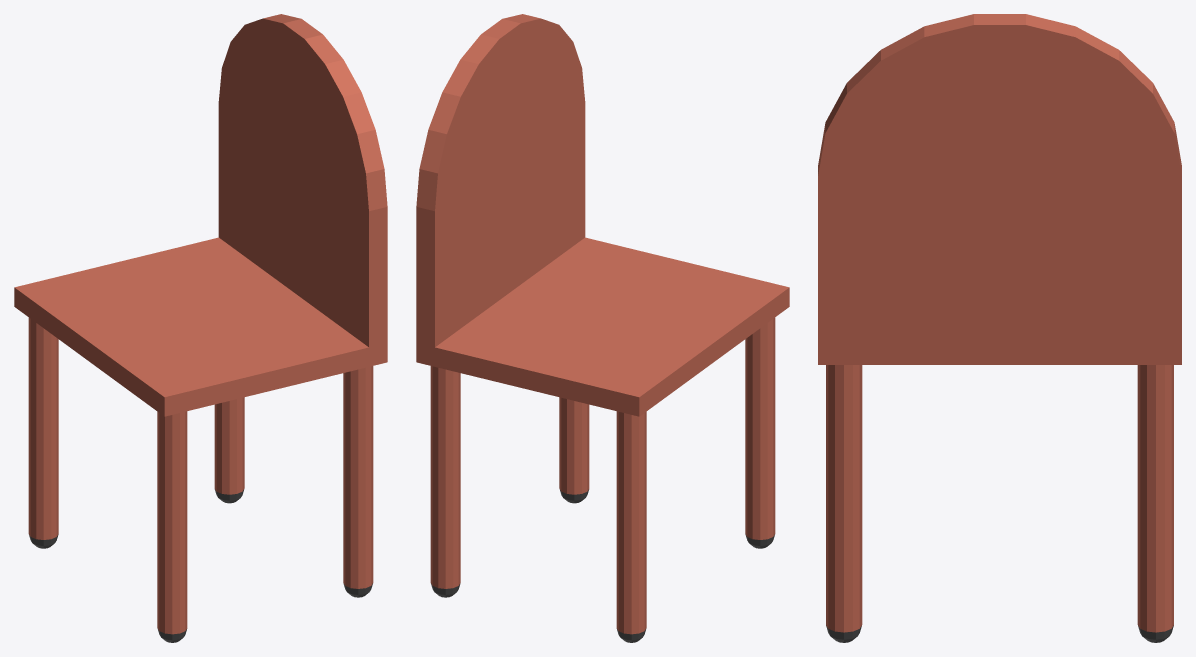
Rendered from Chair.fbx.
The picture shows the model from 3 angles, left to right: view 1: azimuth 30°, elevation 25°; view 2: azimuth 150°, elevation 25°; view 3: azimuth 270°, elevation 25°; orthographic projection. The views are drawn at different scales.
Visible parts, largest first — view 1: Cylinder; view 2: Cylinder; view 3: Cylinder.
Part boxes in pixels (<box>): Cylinder: <box>14,14,387,642</box>; Cylinder: <box>416,14,789,642</box>; Cylinder: <box>818,14,1181,642</box>.
Size of the model in its own units: 120 by 266 by 140.
